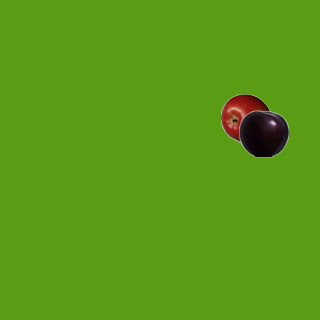Apple Braeburn: (220, 93, 270, 143)
Cherry Wax Black: (238, 108, 288, 158)
